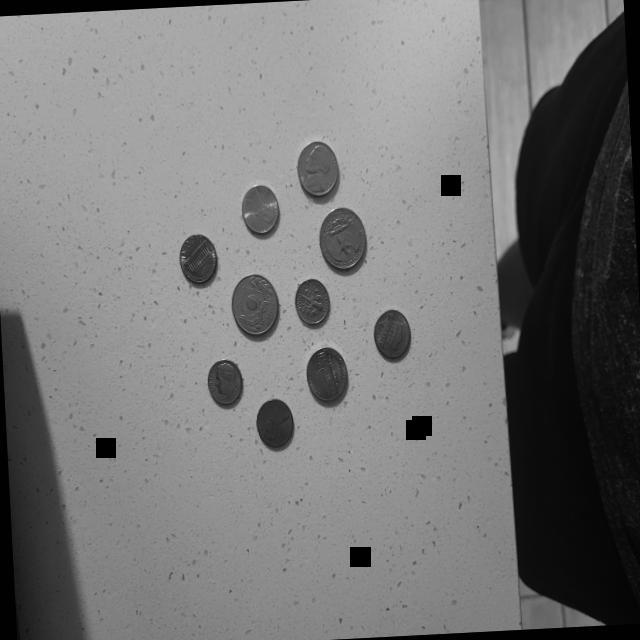Dime: (202, 356, 245, 411), (292, 276, 332, 328)
Nickel: (292, 140, 340, 200), (302, 345, 348, 406)
Penny: (368, 306, 412, 364), (253, 396, 296, 454), (175, 232, 220, 286), (238, 183, 281, 236)
Quarter: (227, 271, 282, 342), (316, 204, 368, 270)
